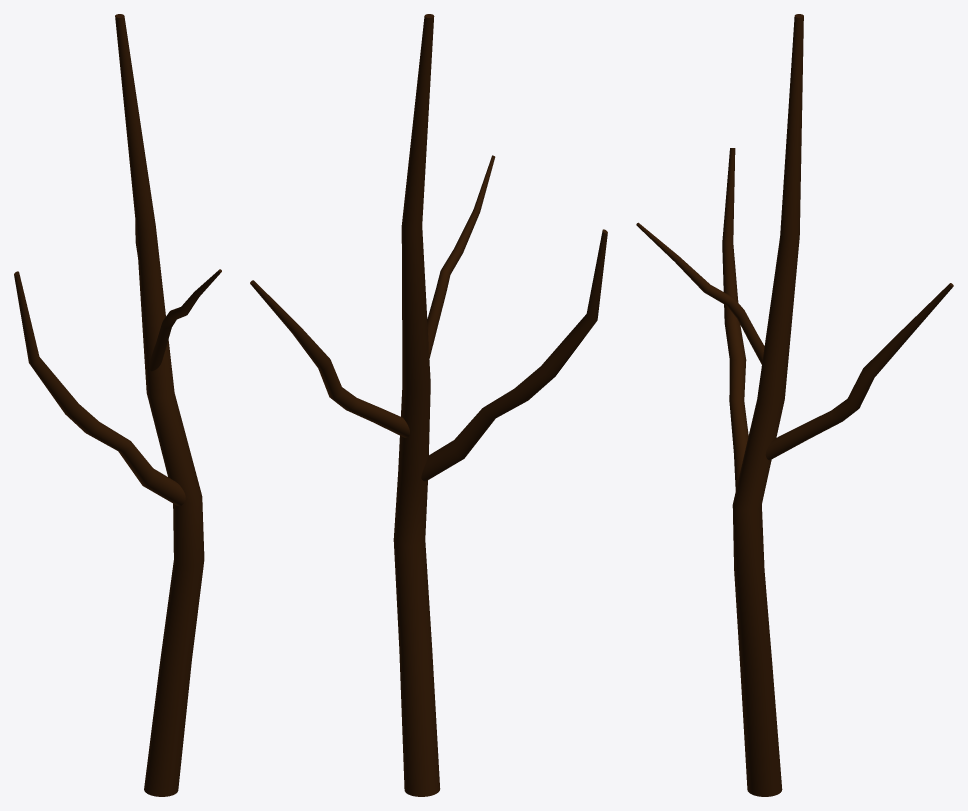
File: Tree1.fbx
The picture shows the model from 3 angles, left to right: view 1: azimuth 30°, elevation 25°; view 2: azimuth 150°, elevation 25°; view 3: azimuth 270°, elevation 25°; orthographic projection. The views are drawn at different scales.
Visible parts, largest first — view 1: Cylinder.002; view 2: Cylinder.002; view 3: Cylinder.002.
Boxes of the visible parts, x1,y1,x2,y2 form: Cylinder.002: (14,14,221,796); Cylinder.002: (250,14,607,796); Cylinder.002: (636,14,953,796).
Bounding box in the file's own units: 1550 × 4829 × 1824.
